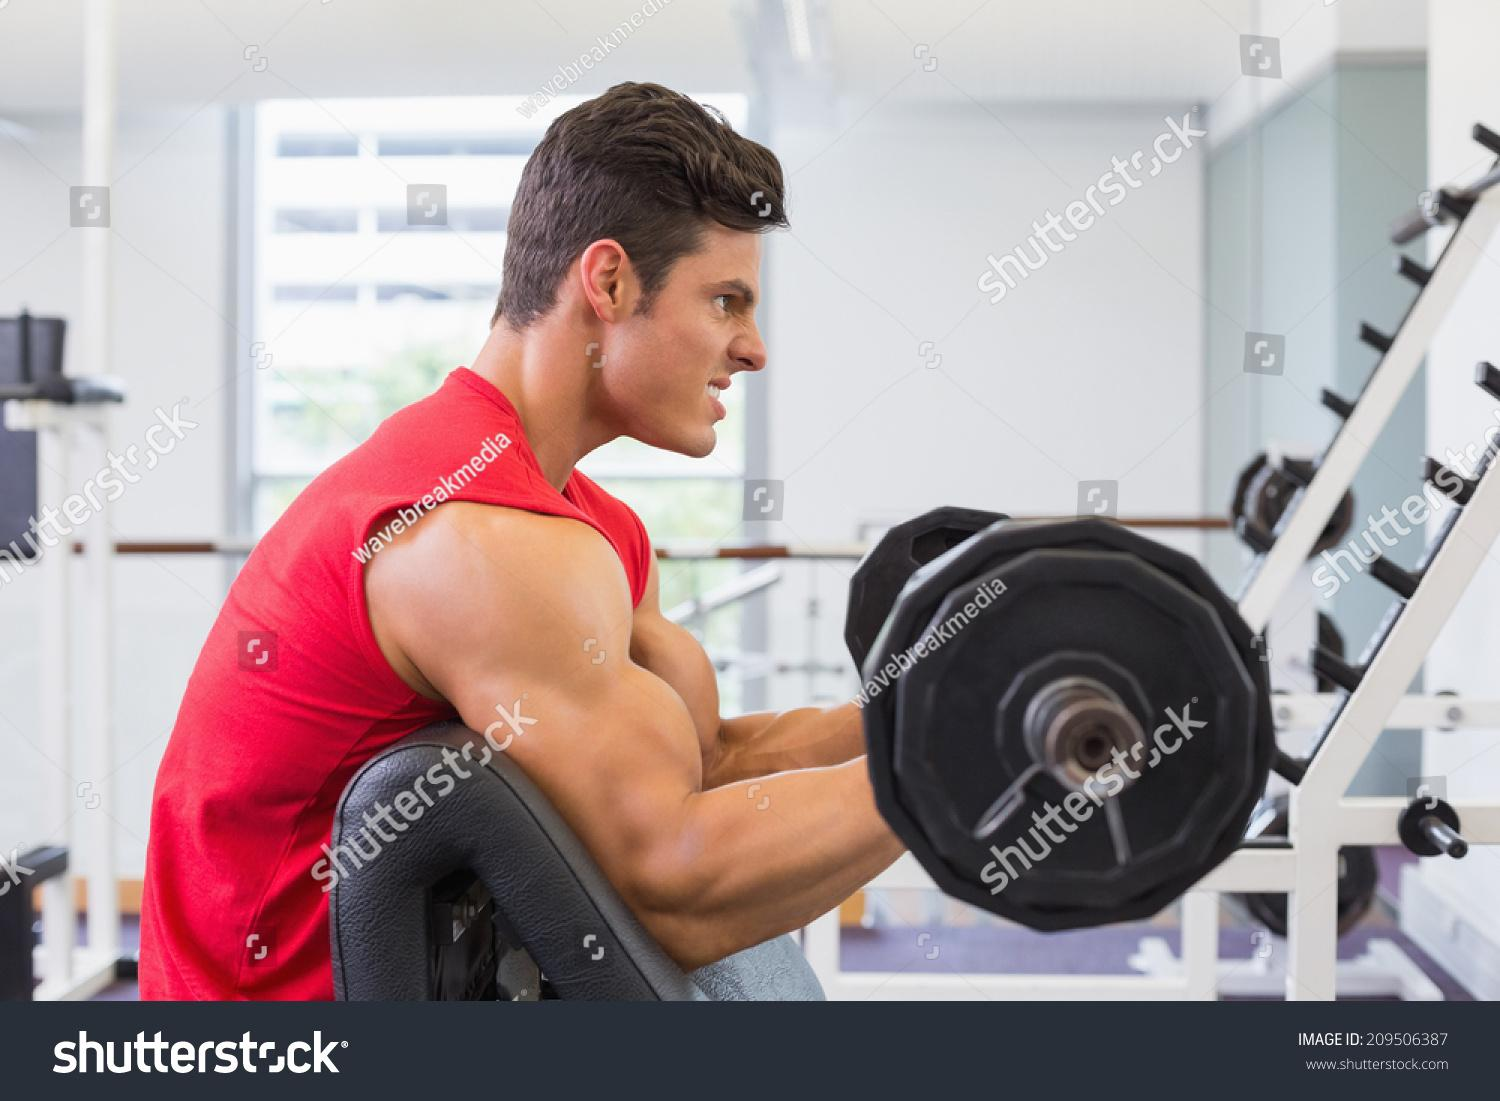Barbell: (1046, 701, 1154, 809)
